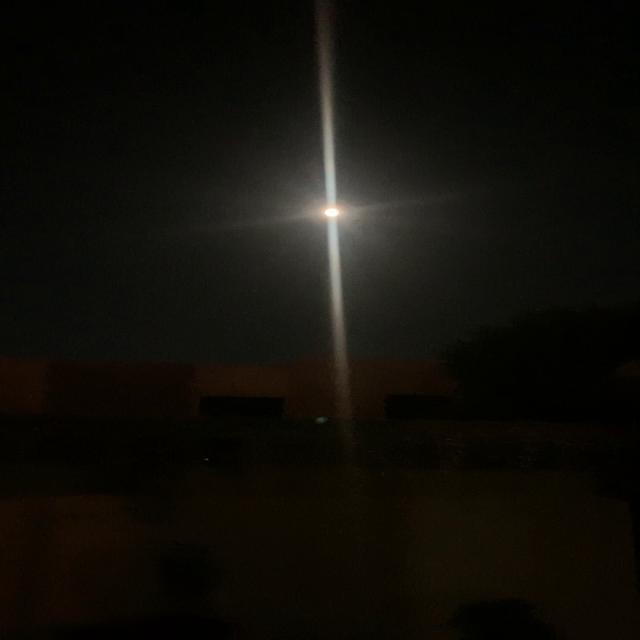moon: (308, 199, 353, 226)
